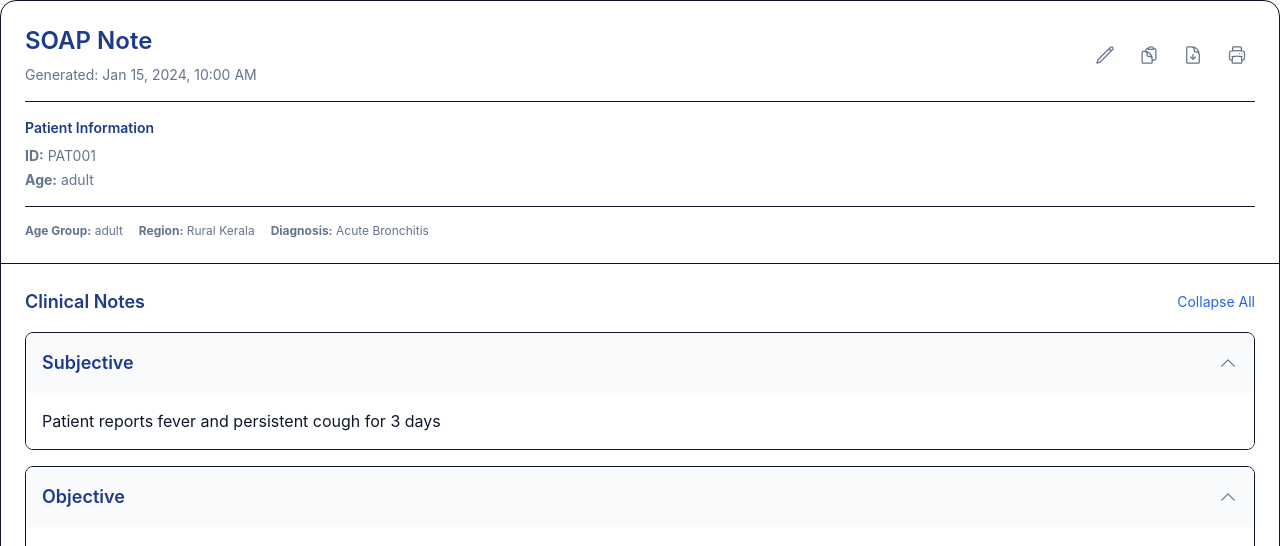
SOAPNoteViewer › allows editing when editable prop is true
Click the button named "edit soap note".
click(1105, 55)  # box [1087,37,1123,73]
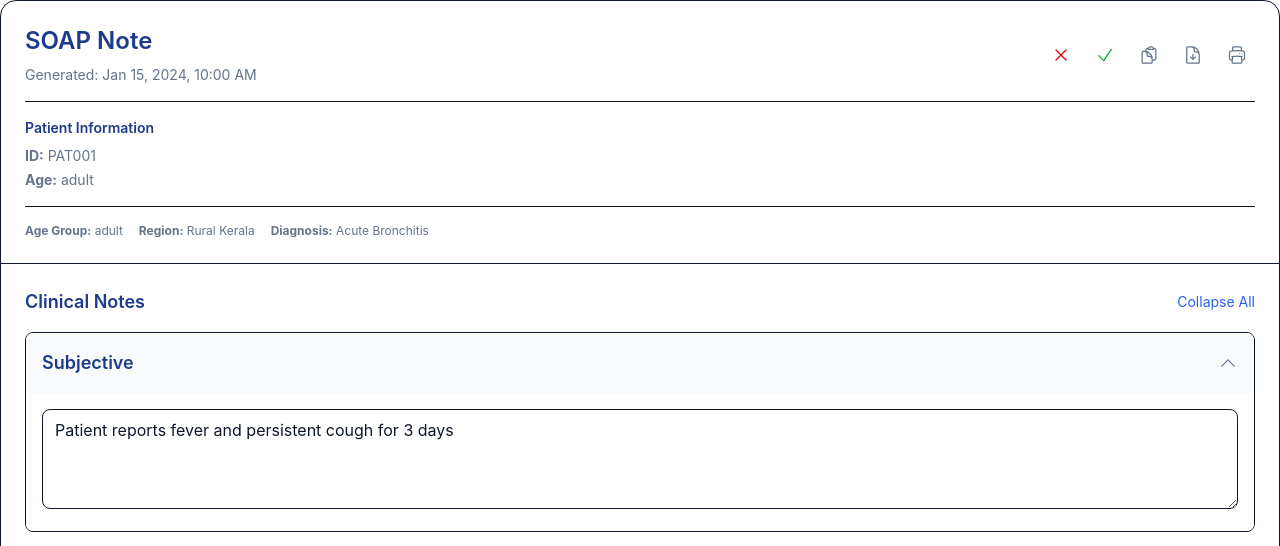
Check: the 1st text box showing "Patient reports fever and persistent cough for 3 days" is shown, box [42,409,1238,509]
